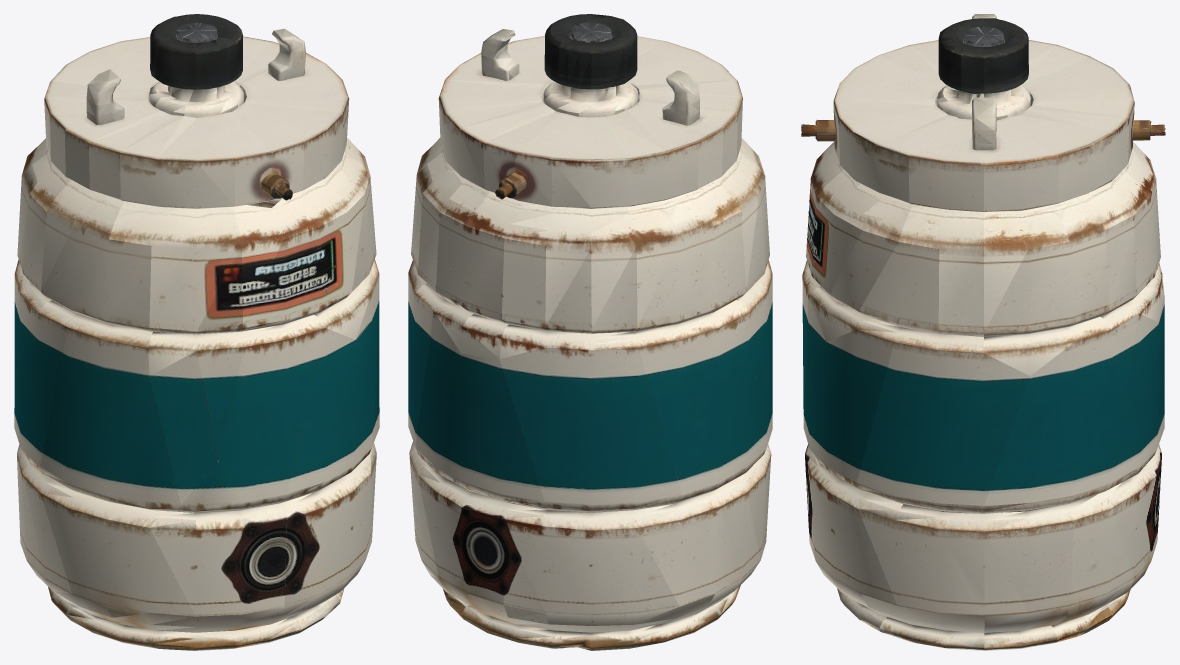
The model's file is canister.glb.
3 renders of one model, left to right at view 1: azimuth 30°, elevation 25°; view 2: azimuth 150°, elevation 25°; view 3: azimuth 270°, elevation 25°, orthographic.
Bounding box in the file's own units: 0.5957 × 1 × 0.5957.
1 material, 1 textured.
